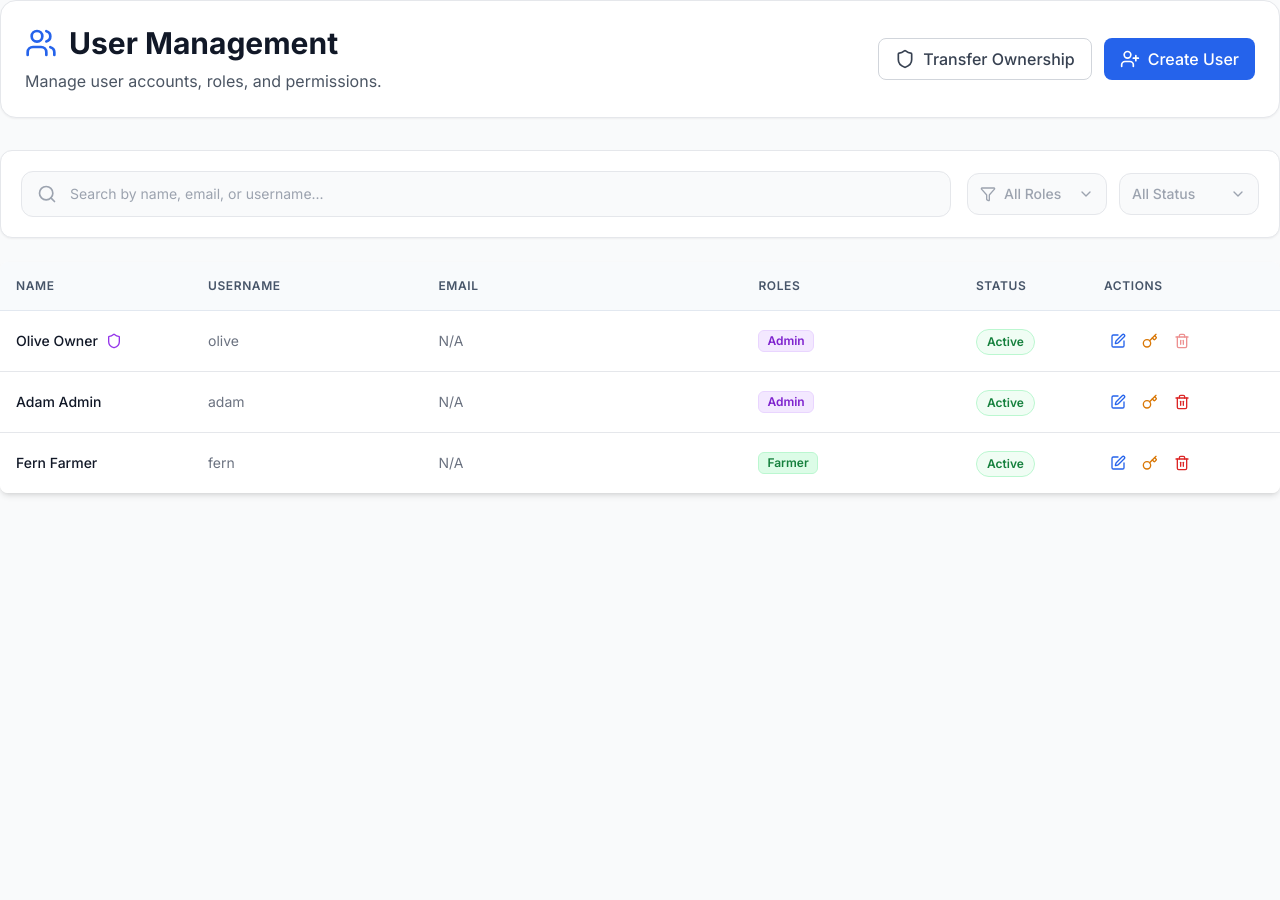
Test: User Management popups render on <body> › the edit user popup
Expected: the text "Fern Farmer" is shown, [16, 453, 97, 473]
Click the button titled "Edit user" in the row of "Olive Owner": [1118, 341] box [1104, 327, 1132, 355]
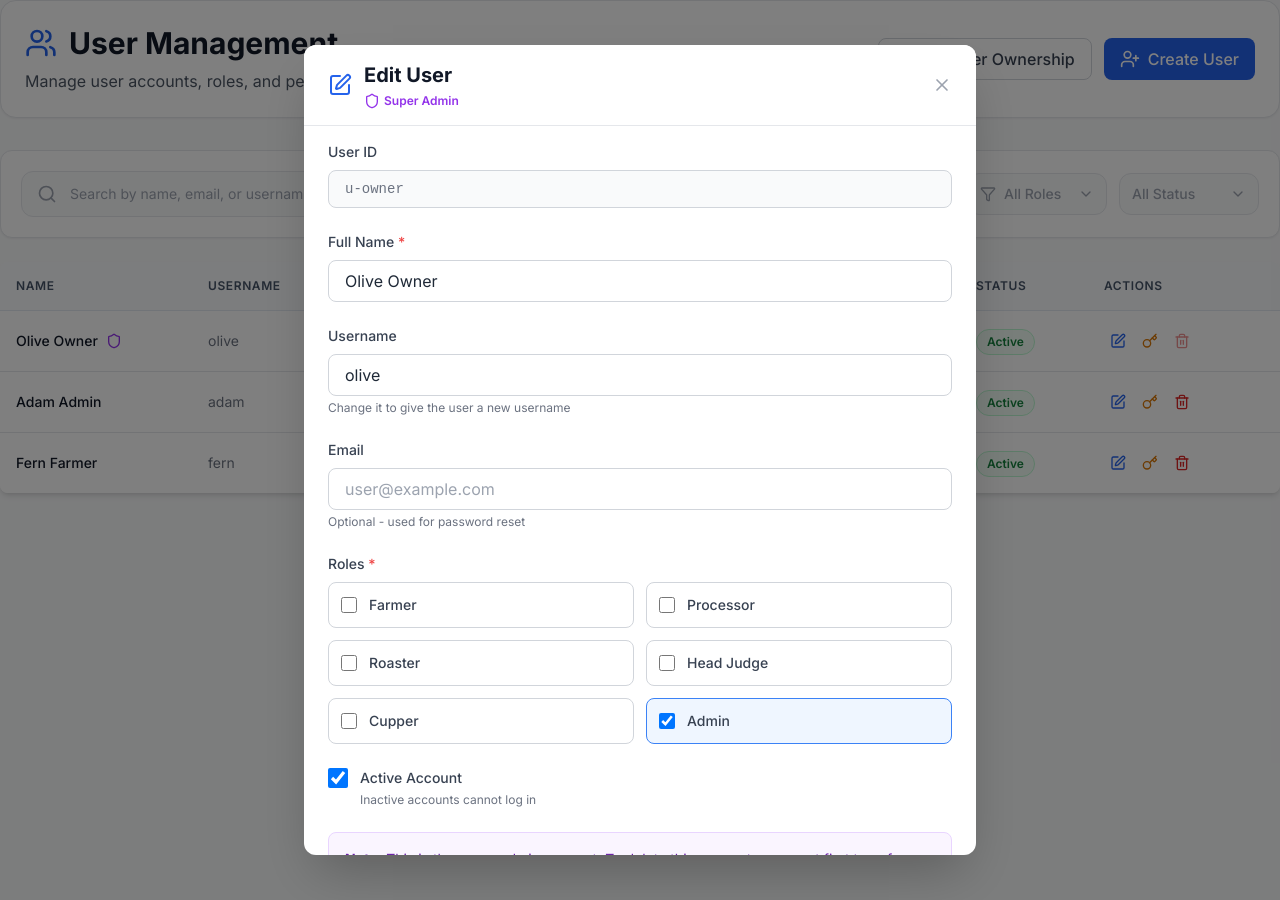
Now the text "Edit User" is shown, box [364, 61, 459, 89]
